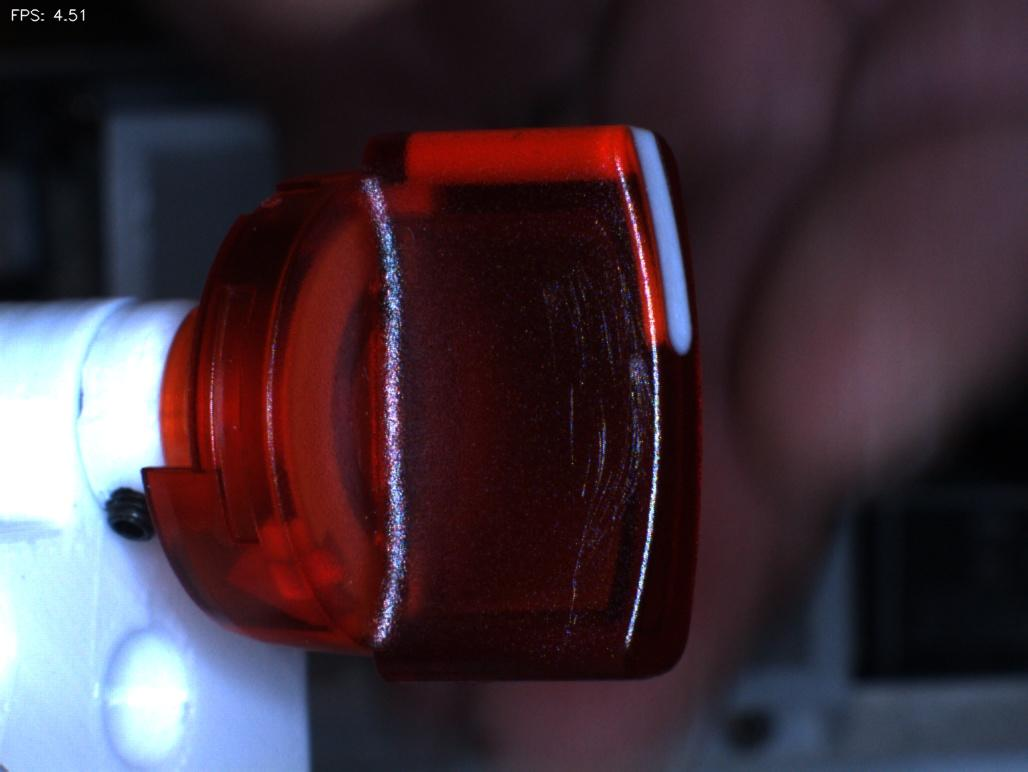Givrage: (537, 223, 654, 599)
